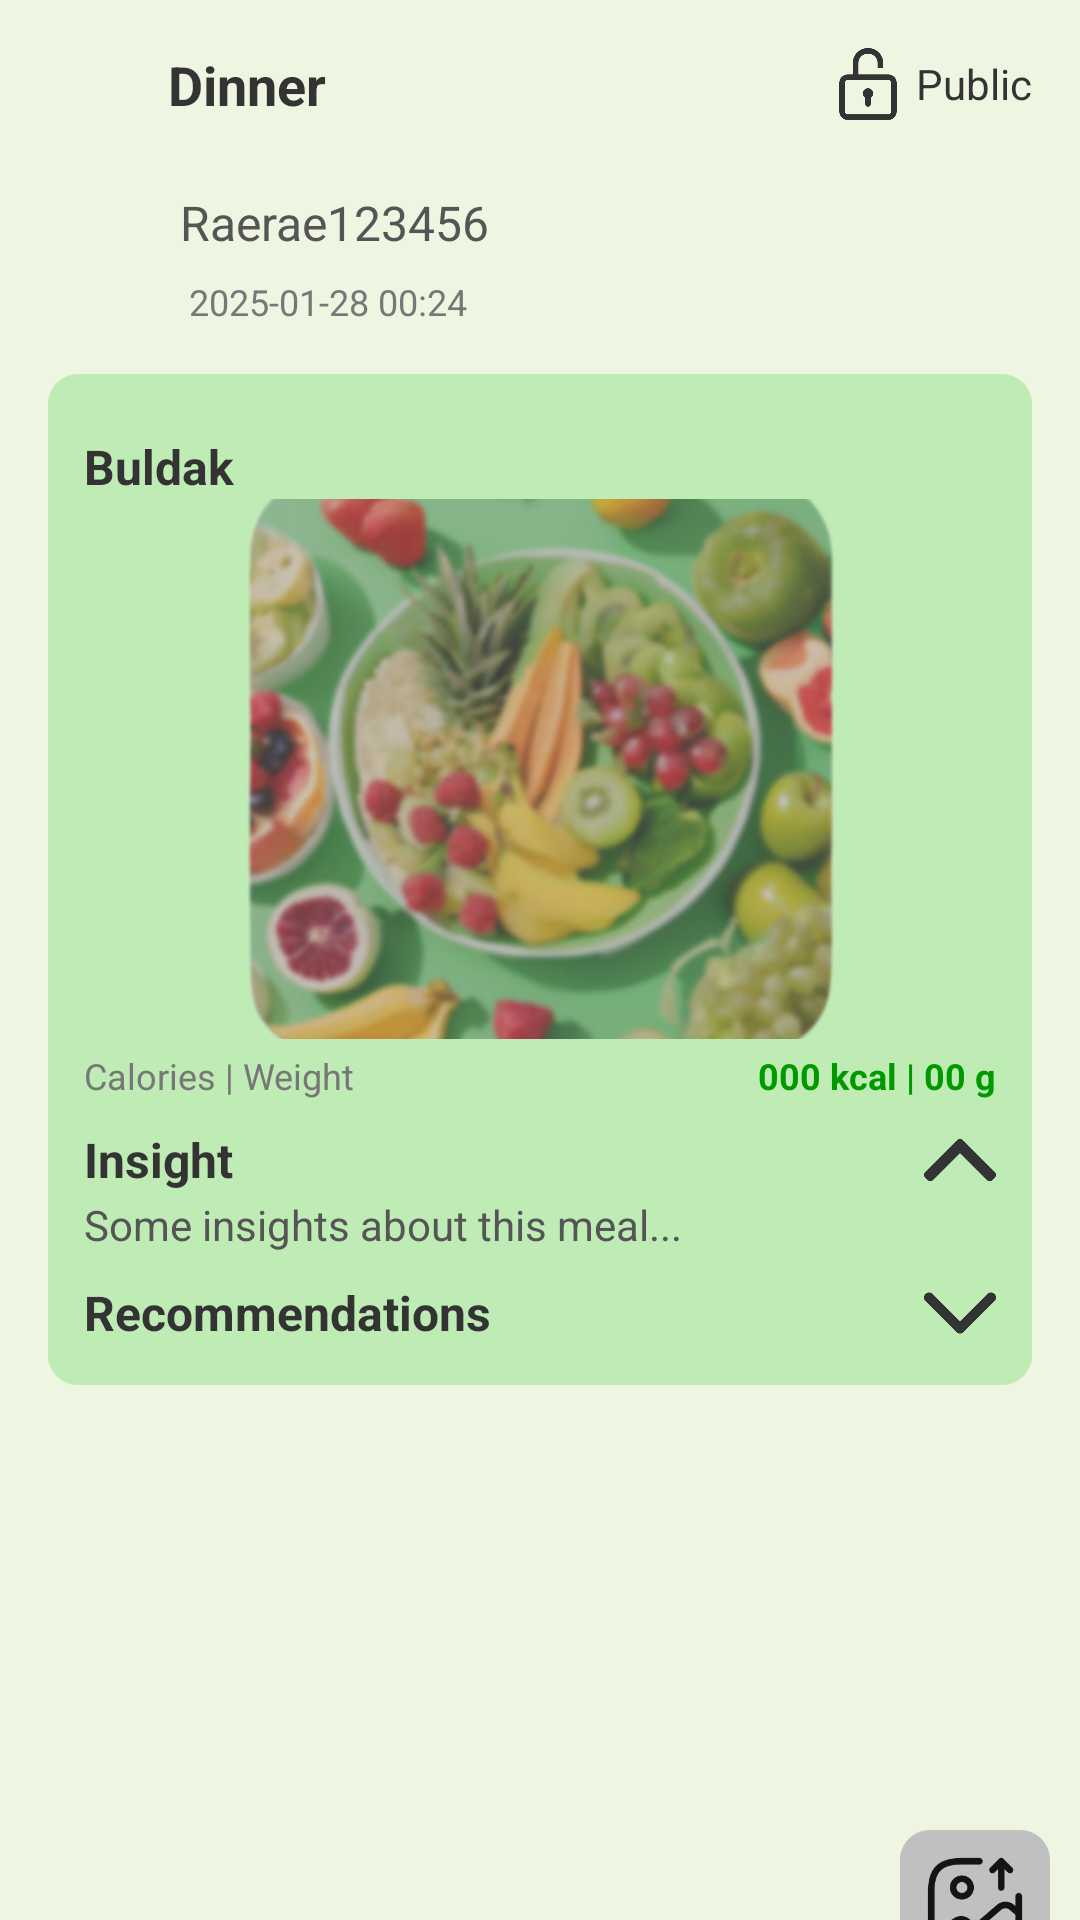

Screen size 1080px x 1920px. Icon name, then its center in pixels as (x,y):
down arrow: (960,1313)
unlock: (868,84)
up arrow: (960,1160)
